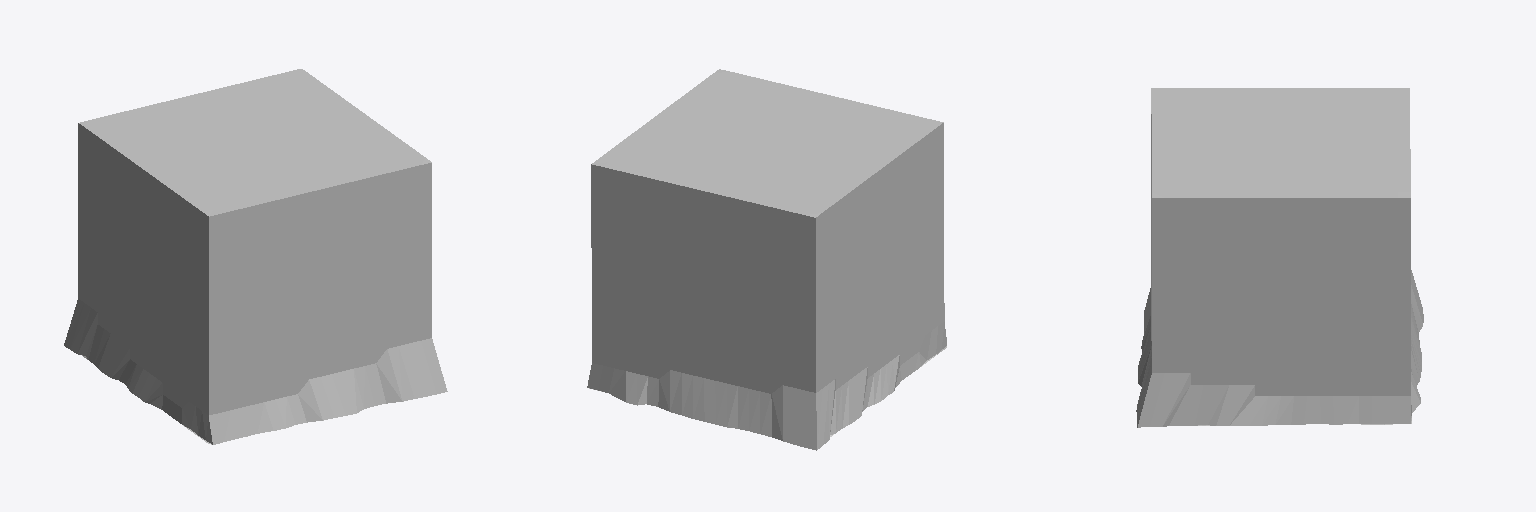
Rendered from mod0225.obj.
3 views of the same model, side by side, from view 1: azimuth 30°, elevation 25°; view 2: azimuth 150°, elevation 25°; view 3: azimuth 270°, elevation 25° (orthographic).
Visible parts, largest first — view 1: Box001; view 2: Box001; view 3: Box001.
Boxes of the visible parts, <box> form: Box001: <box>64,69,447,444</box>; Box001: <box>587,69,946,450</box>; Box001: <box>1136,88,1423,427</box>.
Size of the model in its own units: 0.5799 by 0.5221 by 0.5979.